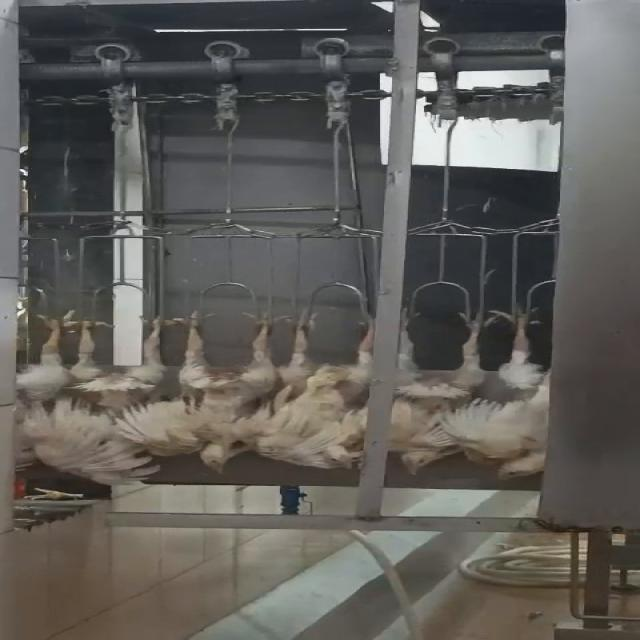chicken: (252, 303, 394, 471), (167, 304, 301, 474), (69, 302, 187, 486), (370, 308, 493, 478), (455, 307, 563, 480), (7, 302, 80, 470)
